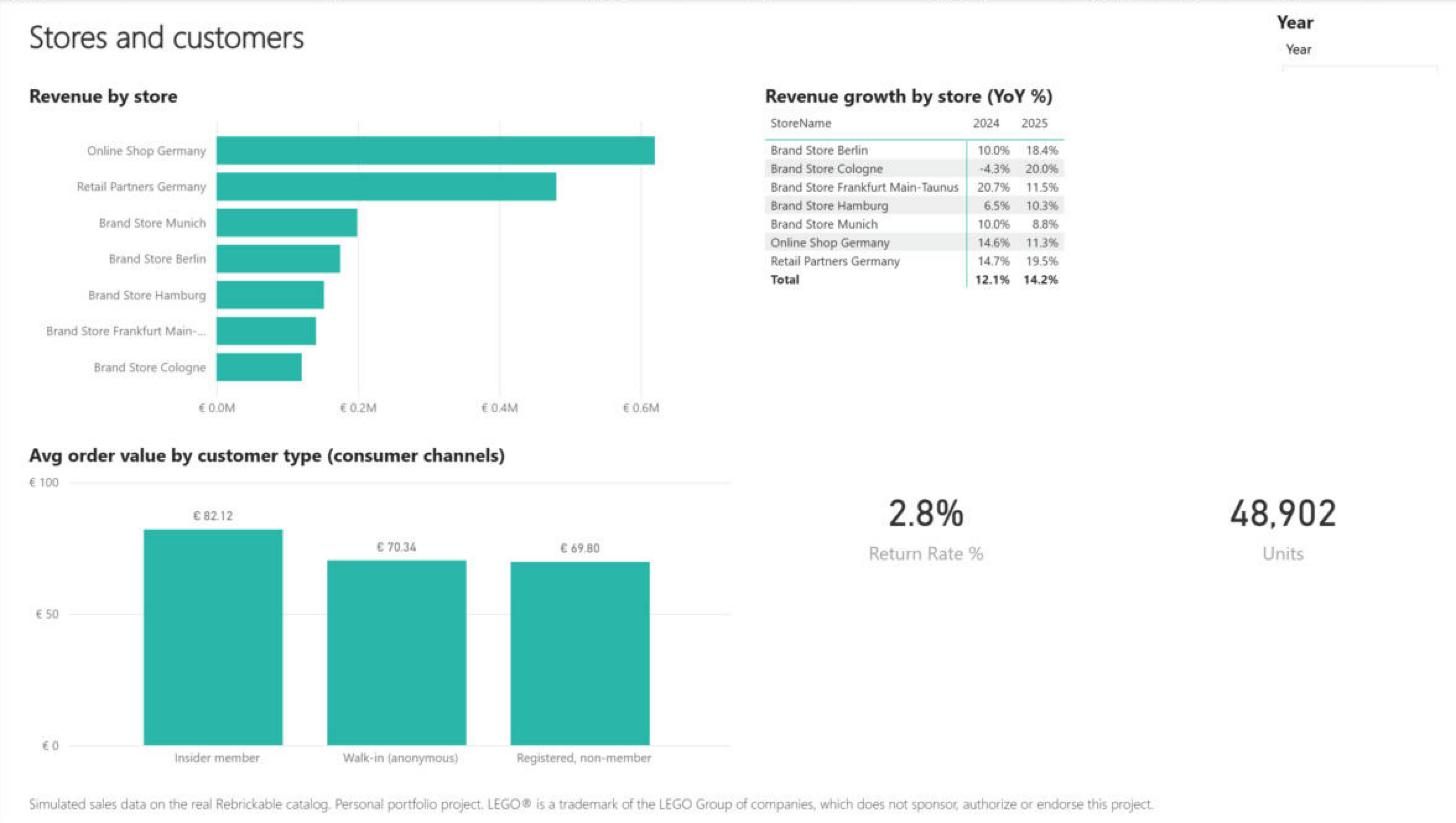

What the dashboard file says about the page in this screenshot:
{"tool":"powerbi","page":{"name":"Stores and customers","canvas":[1280,720],"ordinal":2},"visuals":[{"type":"textbox","box":[20,8,900,50],"z":0},{"type":"slicer","title":"Year","fields":{"Values":["Date.Year"]},"box":[1105,8,155,56],"z":1000},{"type":"clusteredBarChart","title":"Revenue by store","fields":{"Category":["vw_SalesLines.StoreName"],"Y":["vw_SalesLines.Revenue"]},"box":[20,72,620,300],"z":2000},{"type":"pivotTable","title":"Revenue growth by store (YoY %)","fields":{"Columns":["Date.Year"],"Rows":["vw_SalesLines.StoreName"],"Values":["vw_SalesLines.Revenue YoY %"]},"box":[660,72,600,300],"z":3000},{"type":"clusteredColumnChart","title":"Avg order value by customer type (consumer channels)","fields":{"Category":["vw_SalesLines.Customer Type"],"Y":["vw_SalesLines.Avg Order Value Consumer"]},"box":[20,385,620,292],"z":4000},{"type":"card","fields":{"Values":["vw_SalesLines.Return Rate %"]},"box":[660,385,290,140],"z":5000},{"type":"card","fields":{"Values":["vw_SalesLines.Units"]},"box":[970,385,290,140],"z":6000},{"type":"textbox","box":[20,684,1100,30],"z":7000}]}

Visuals, with their boxes in screenshot pixels (x1, y1, x2, y2), scaled from the page's 1280x720 canvas onto the 1456x823 screenshot:
textbox: 23, 9, 1046, 66
"Year" slicer: 1257, 9, 1433, 73
"Revenue by store" clusteredBarChart: 23, 82, 728, 425
"Revenue growth by store (YoY %)" pivotTable: 751, 82, 1433, 425
"Avg order value by customer type (consumer channels)" clusteredColumnChart: 23, 440, 728, 774
card - vw_SalesLines.Return Rate %: 751, 440, 1081, 600
card - vw_SalesLines.Units: 1103, 440, 1433, 600
textbox: 23, 782, 1274, 816
